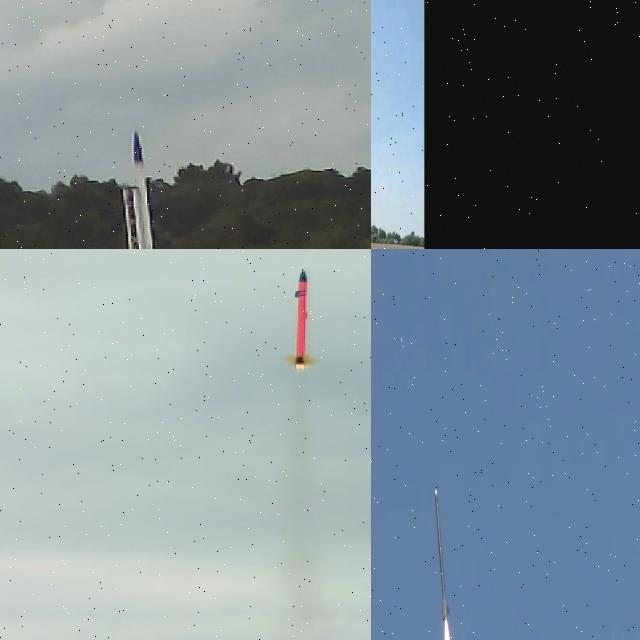Rocket: (283, 268, 318, 366), (130, 131, 159, 249), (434, 488, 451, 622)
